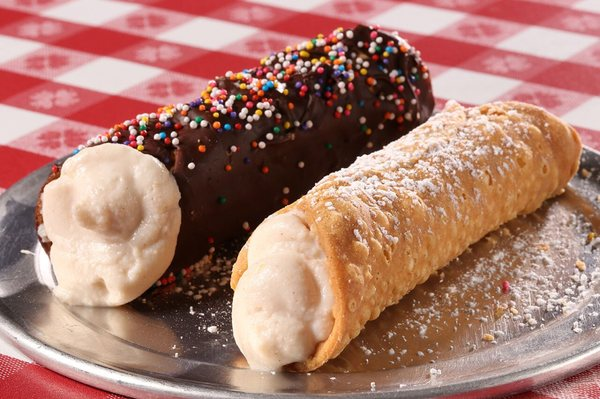salad: (228, 99, 587, 374), (91, 25, 436, 282), (33, 143, 181, 309)
